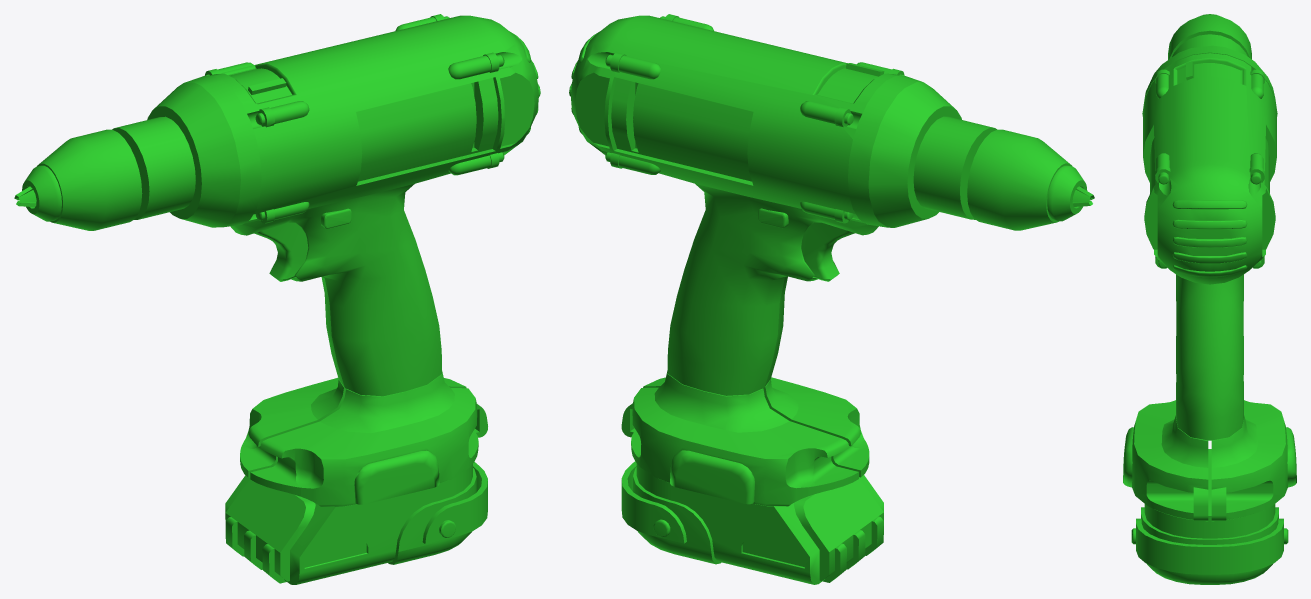
The model's file is SM_ElectricDrill_01a.fbx.
The picture shows the model from 3 angles, left to right: view 1: azimuth 30°, elevation 25°; view 2: azimuth 150°, elevation 25°; view 3: azimuth 270°, elevation 25°; orthographic projection. The views are drawn at different scales.
Parts seen in each view (by area): view 1: SM_ElectricDrill; view 2: SM_ElectricDrill; view 3: SM_ElectricDrill.
Part boxes in pixels (x1=…): SM_ElectricDrill: x1=14, y1=14, x2=540, y2=584; SM_ElectricDrill: x1=569, y1=14, x2=1094, y2=584; SM_ElectricDrill: x1=1123, y1=14, x2=1296, y2=584.
Size of the model in its own units: 27.08 by 25.14 by 9.09.
